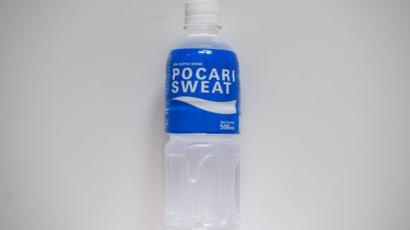POCARI SWEAT: (162, 1, 240, 228)
